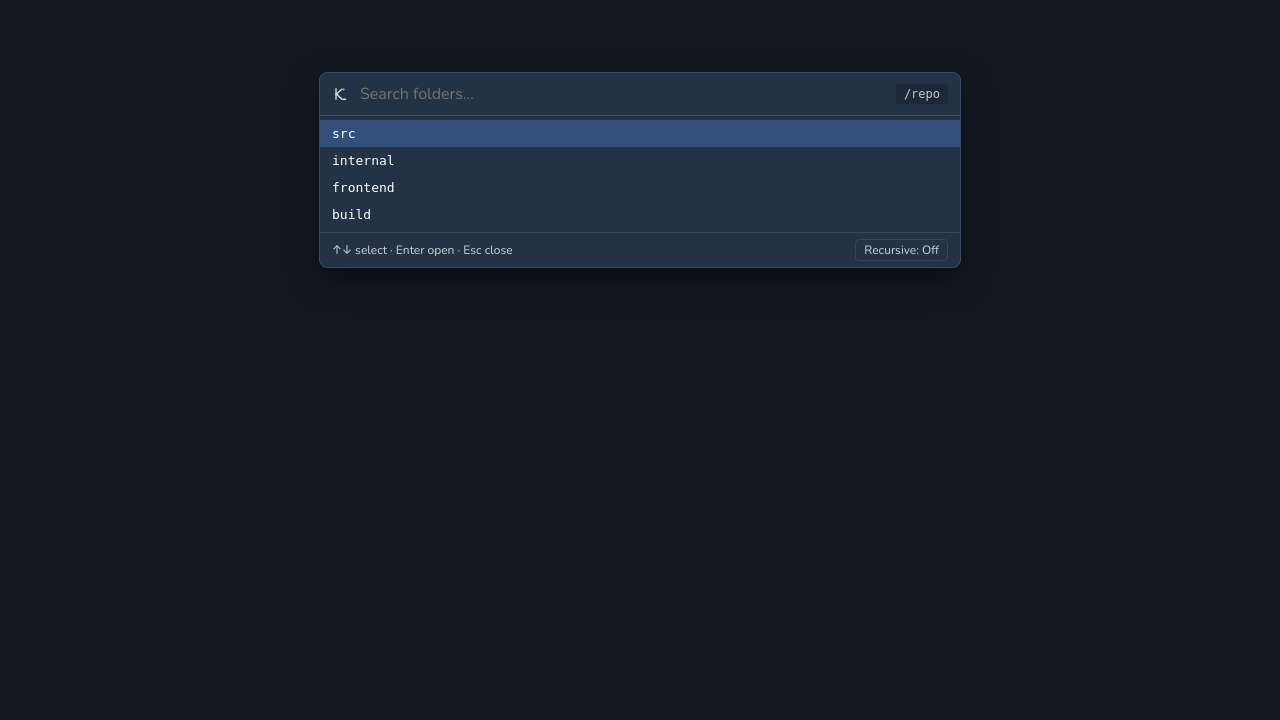
Test case: folderPanel › recursive mode toggle › switches between getFolders and getFoldersRecursive when toggling the button
Click the button "Recursive: Off" at (902, 250), box [855,239,948,261]
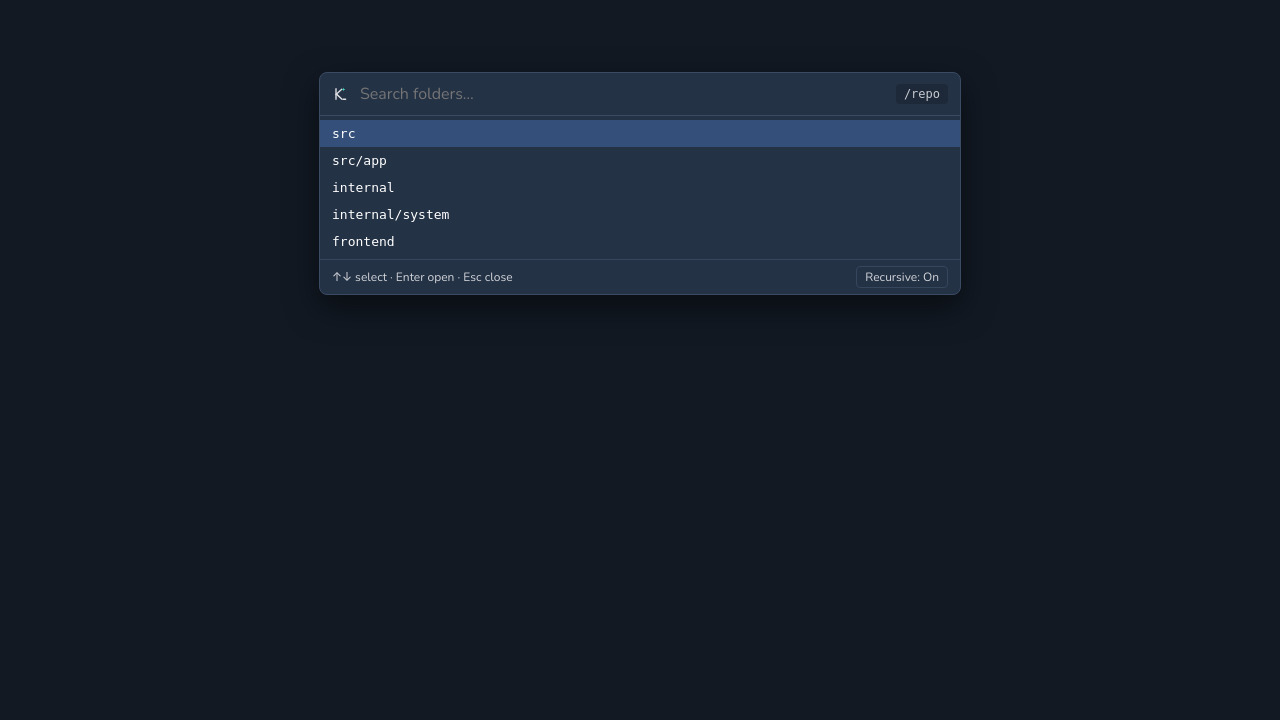
Expected: the button "Recursive: On" is shown
Click the button "Recursive: On" at (902, 277), box [856,266,948,288]
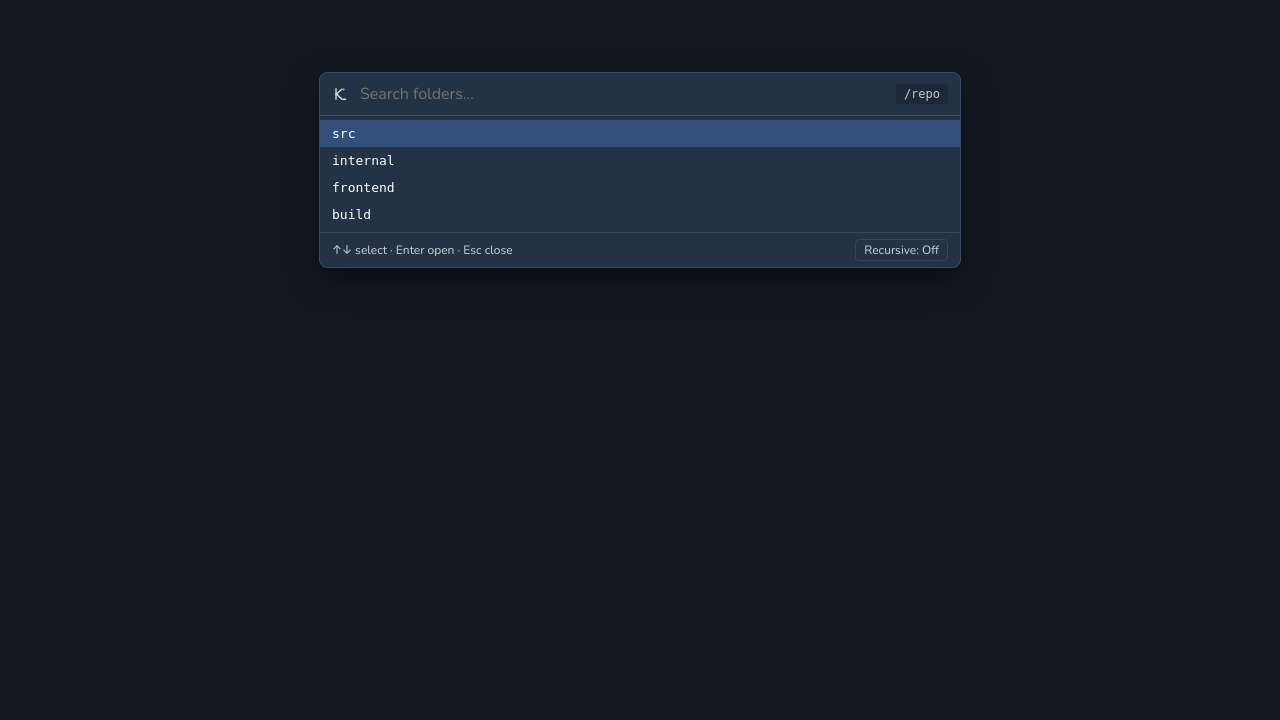
Expected: the button "Recursive: Off" is shown, [855,239,948,261]
